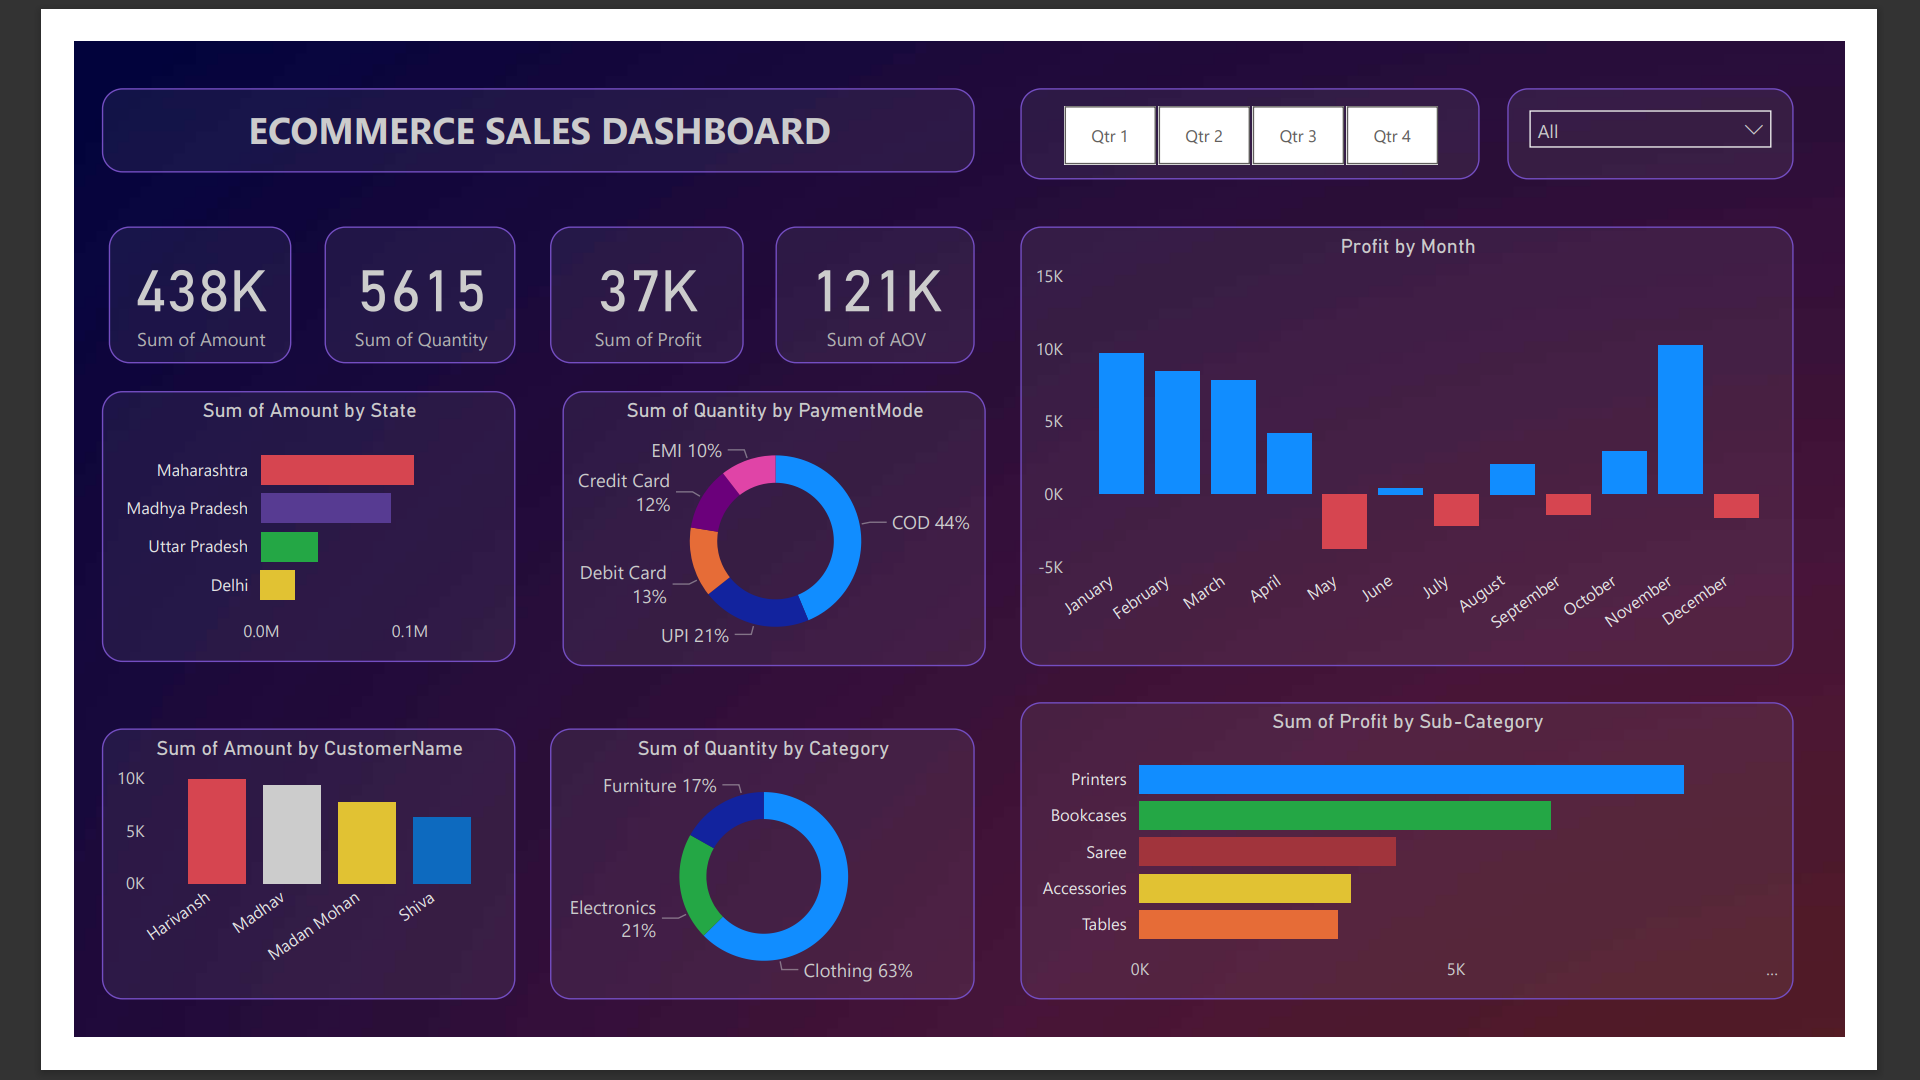

This screenshot's page, from the dashboard's own definition file:
{"tool":"powerbi","page":{"name":"Page 1","canvas":[1280,720],"ordinal":0},"visuals":[{"type":"textbox","box":[20.4,34,630.3,61.3],"z":0},{"type":"columnChart","title":"Profit by Month","fields":{"Y":["Details.Profit"],"Category":["Orders.Order Date.Variation.Date Hierarchy.Month"]},"box":[683.8,134.2,559.3,318.1],"z":1000},{"type":"barChart","fields":{"Category":["Details.Sub-Category"],"Y":["Details.Profit"]},"box":[683.8,477.6,559.3,215],"z":2000},{"type":"donutChart","fields":{"Category":["Details.Category"],"Y":["Details.Quantity"]},"box":[344.3,497,306.4,195.5],"z":3000},{"type":"donutChart","fields":{"Y":["Details.Quantity"],"Category":["Details.PaymentMode"]},"box":[353.1,252.9,306.4,199.4],"z":4000},{"type":"card","fields":{"Values":["Details.Amount"]},"box":[25.3,134.2,131.3,99.2],"z":5000},{"type":"card","fields":{"Values":["Details.Quantity"]},"box":[180.9,134.2,138.1,99.2],"z":6000},{"type":"card","fields":{"Values":["Details.Profit"]},"box":[344.3,134.2,140.1,99.2],"z":7000},{"type":"card","fields":{"Values":["Details.AOV"]},"box":[506.7,134.2,144,99.2],"z":8000},{"type":"barChart","fields":{"Category":["Orders.State"],"Y":["Details.Amount"]},"box":[20.4,252.9,298.6,196.5],"z":9000},{"type":"columnChart","fields":{"Category":["Orders.CustomerName"],"Y":["Details.Amount"]},"box":[20.4,497,298.6,195.5],"z":10000},{"type":"slicer","fields":{"Values":["Orders.Order Date.Variation.Date Hierarchy.Quarter"]},"box":[683.8,34,332.6,66.1],"z":11000},{"type":"slicer","fields":{"Values":["Orders.State"]},"box":[1035.9,34,207.2,66.1],"z":12000}]}

Visuals, with their boxes in screenshot pixels (x1, y1, x2, y2), scaled from the page's 1280x720 canvas onto the 1920x1080 screenshot:
textbox: select_region(31, 51, 976, 143)
"Profit by Month" columnChart: select_region(1026, 201, 1865, 678)
barChart - Details.Sub-Category x Details.Profit: select_region(1026, 716, 1865, 1039)
donutChart - Details.Category x Details.Quantity: select_region(516, 746, 976, 1039)
donutChart - Details.Quantity x Details.PaymentMode: select_region(530, 379, 989, 678)
card - Details.Amount: select_region(38, 201, 235, 350)
card - Details.Quantity: select_region(271, 201, 478, 350)
card - Details.Profit: select_region(516, 201, 727, 350)
card - Details.AOV: select_region(760, 201, 976, 350)
barChart - Orders.State x Details.Amount: select_region(31, 379, 478, 674)
columnChart - Orders.CustomerName x Details.Amount: select_region(31, 746, 478, 1039)
slicer - Orders.Order Date.Variation.Date Hierarchy.Quarter: select_region(1026, 51, 1525, 150)
slicer - Orders.State: select_region(1554, 51, 1865, 150)
